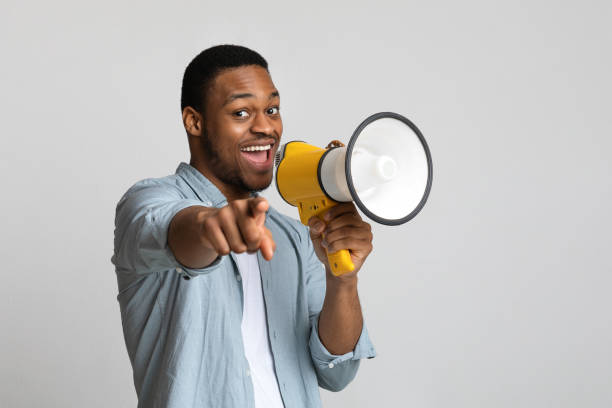without mask: (179, 51, 286, 193)
